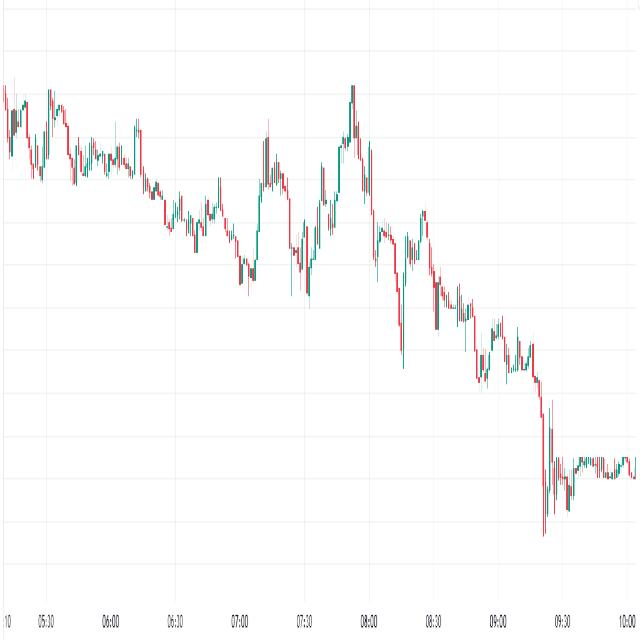Head-Shoulders: (305, 64, 406, 359)
